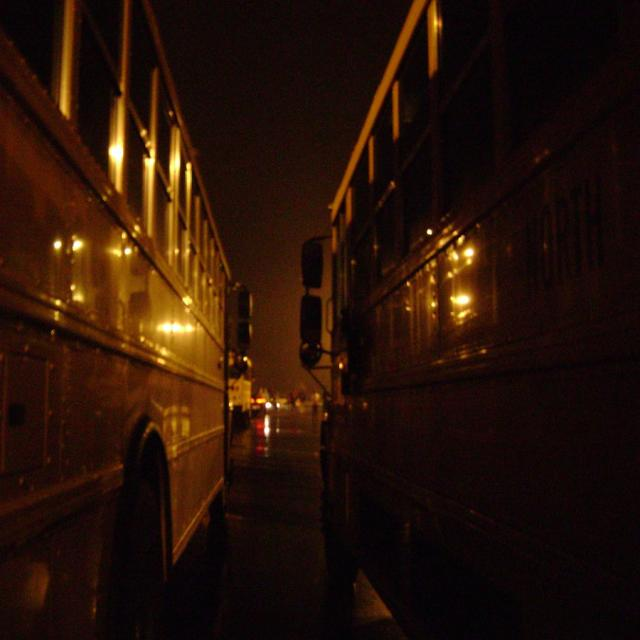Bus: (311, 32, 640, 640), (0, 0, 220, 640)
